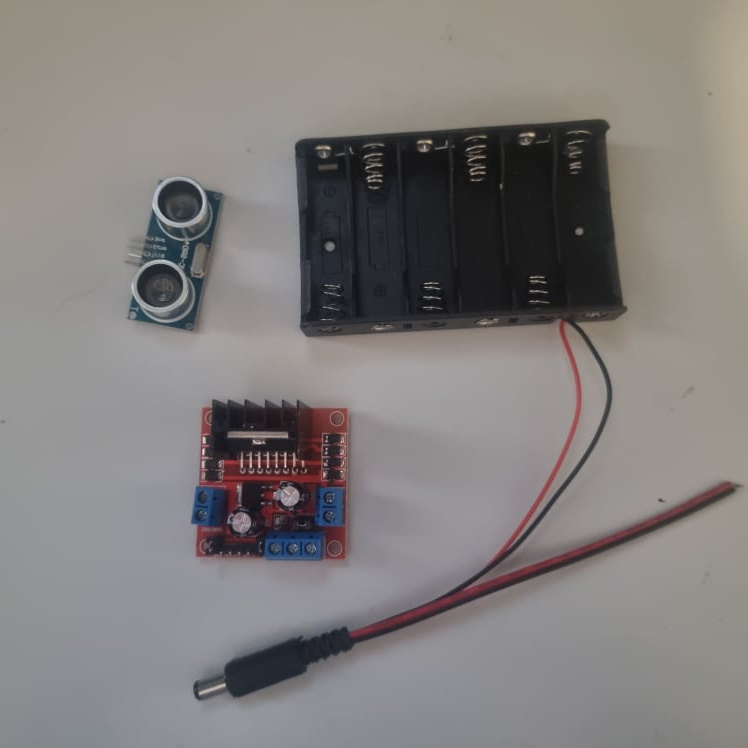BATTERY BOX: (294, 119, 629, 337)
MOTOR: (189, 401, 350, 562)
SENSOR: (117, 176, 227, 335)
